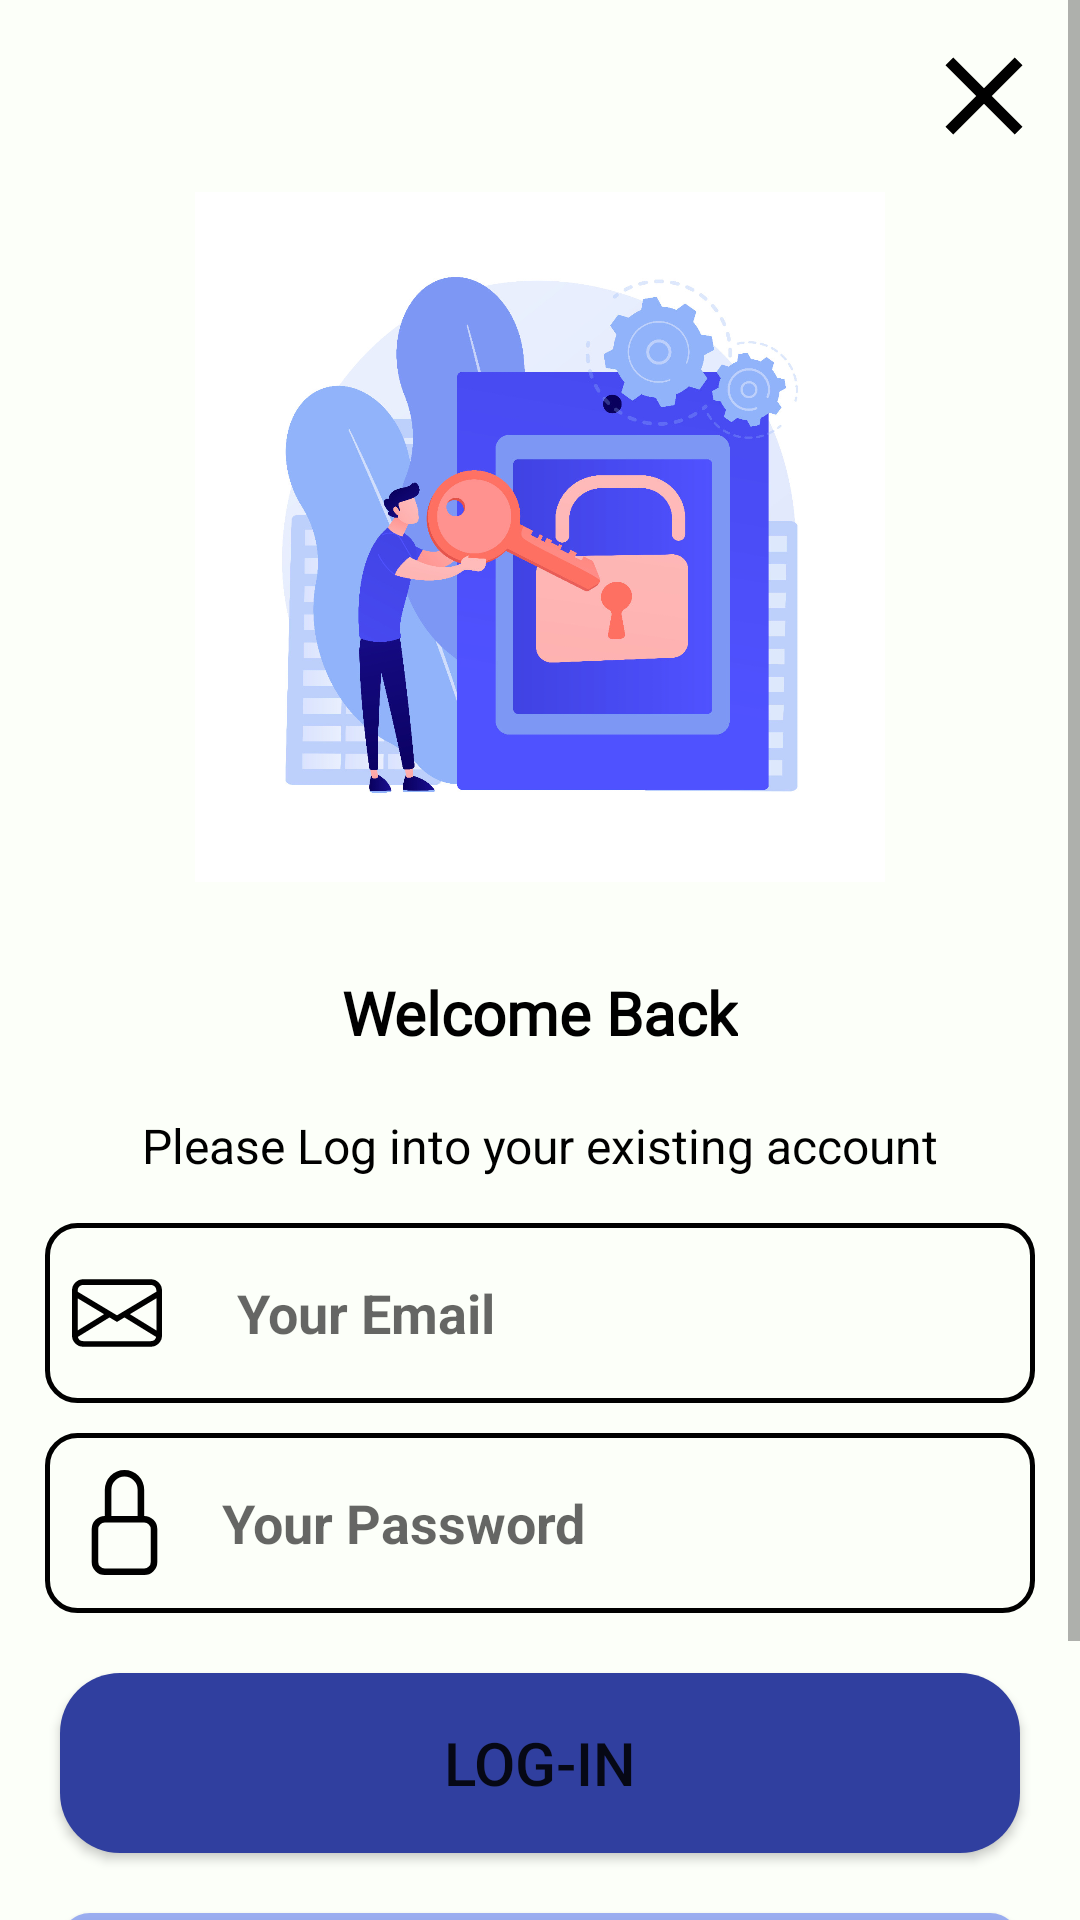

Icons on this 1080px x 1920px Android screen, each with the point to tap as (x,y):
close: (984,96)
lock: (124,1522)
